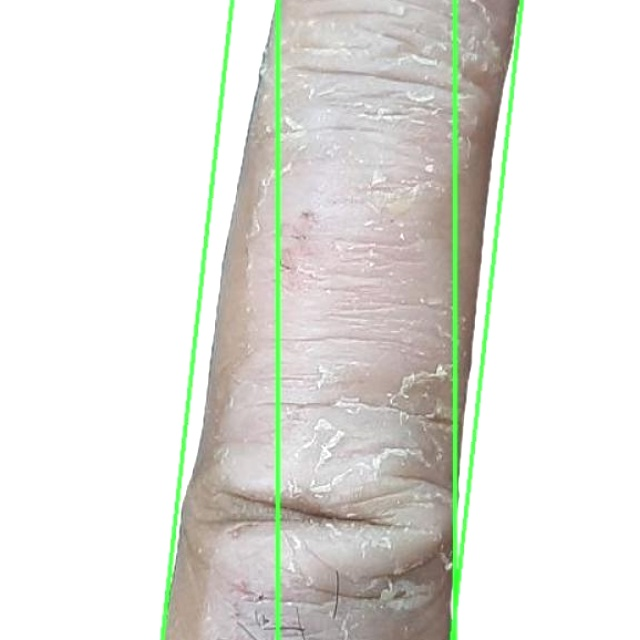Eczema: (162, 0, 521, 639), (0, 0, 277, 639), (453, 0, 639, 639)
